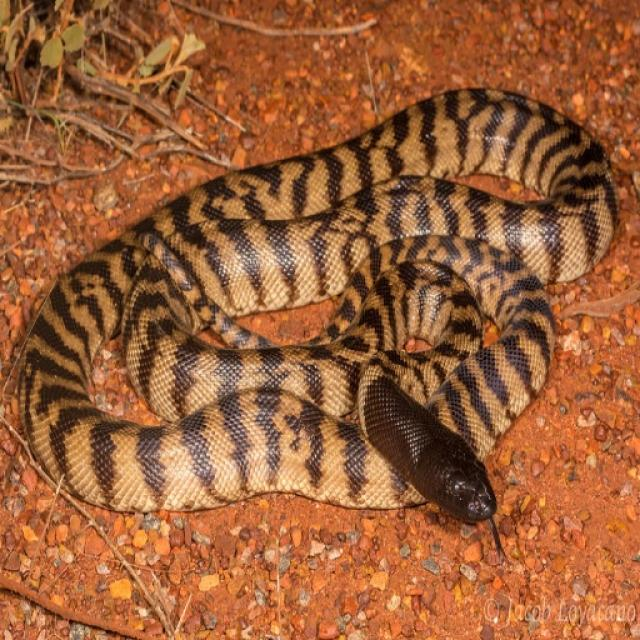snake: (6, 64, 640, 538)
